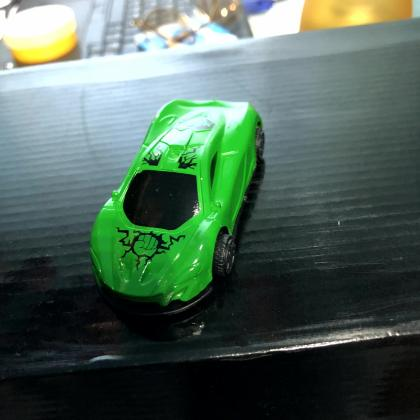Car: (89, 99, 265, 315)
